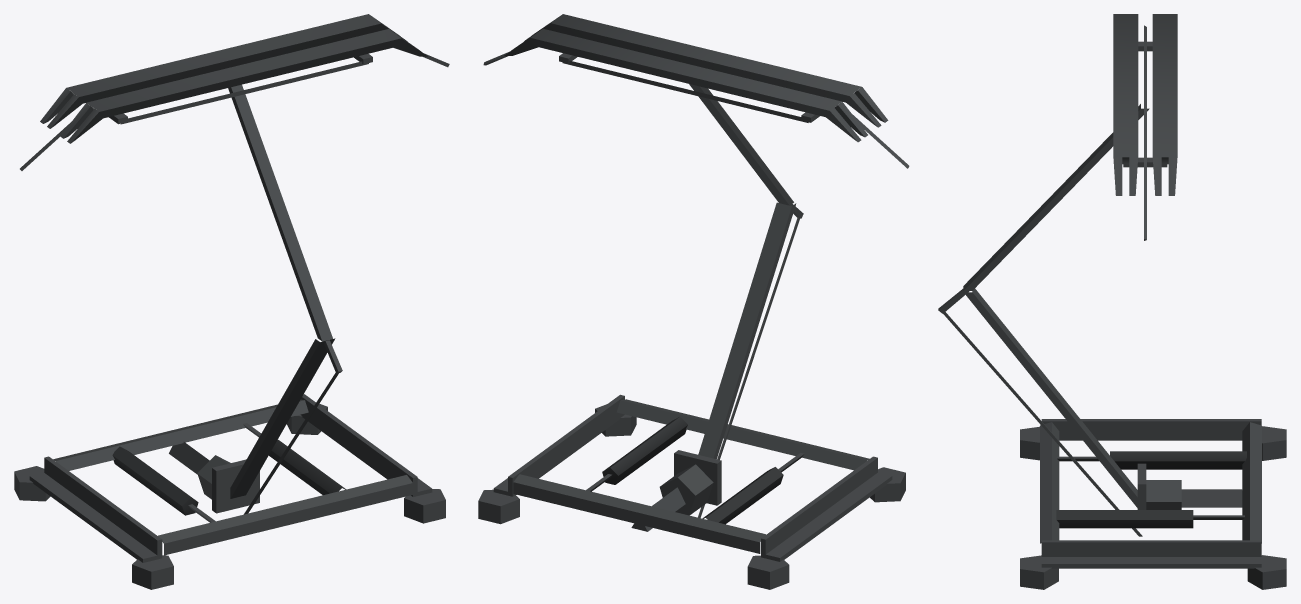
The model's file is 800_PANTA_2.glb.
The picture shows the model from 3 angles, left to right: view 1: azimuth 30°, elevation 25°; view 2: azimuth 150°, elevation 25°; view 3: azimuth 270°, elevation 25°; orthographic projection. The views are drawn at different scales.
Parts seen in each view (by area): view 1: PANTA; view 2: PANTA; view 3: PANTA.
Boxes of the visible parts, x1,y1,x2,y2 form: PANTA: (14, 14, 449, 589); PANTA: (478, 14, 909, 589); PANTA: (938, 14, 1286, 589).
Bounding box in the file's own units: 4.48 × 4.63 × 3.24.
Materials: 1 (1 with a texture image).
